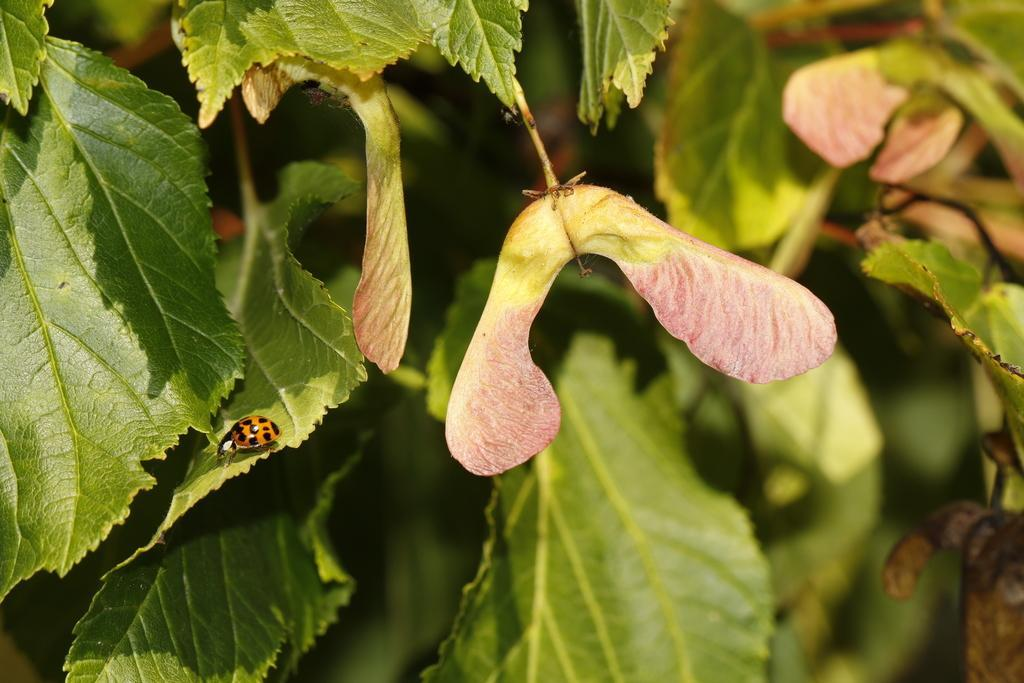ladybug: (215, 413, 285, 471)
